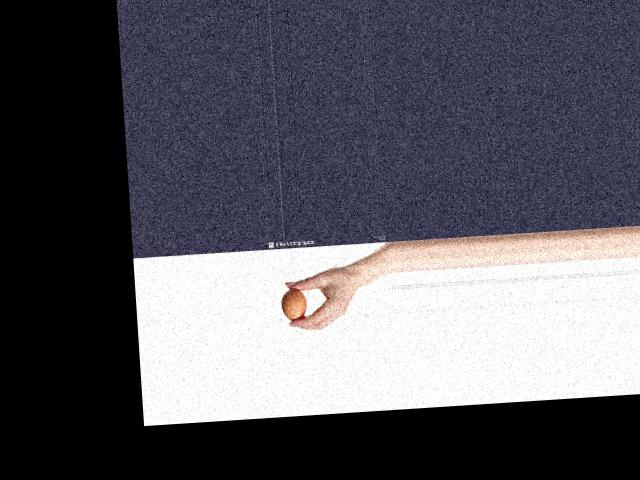egg: (281, 288, 308, 320)
